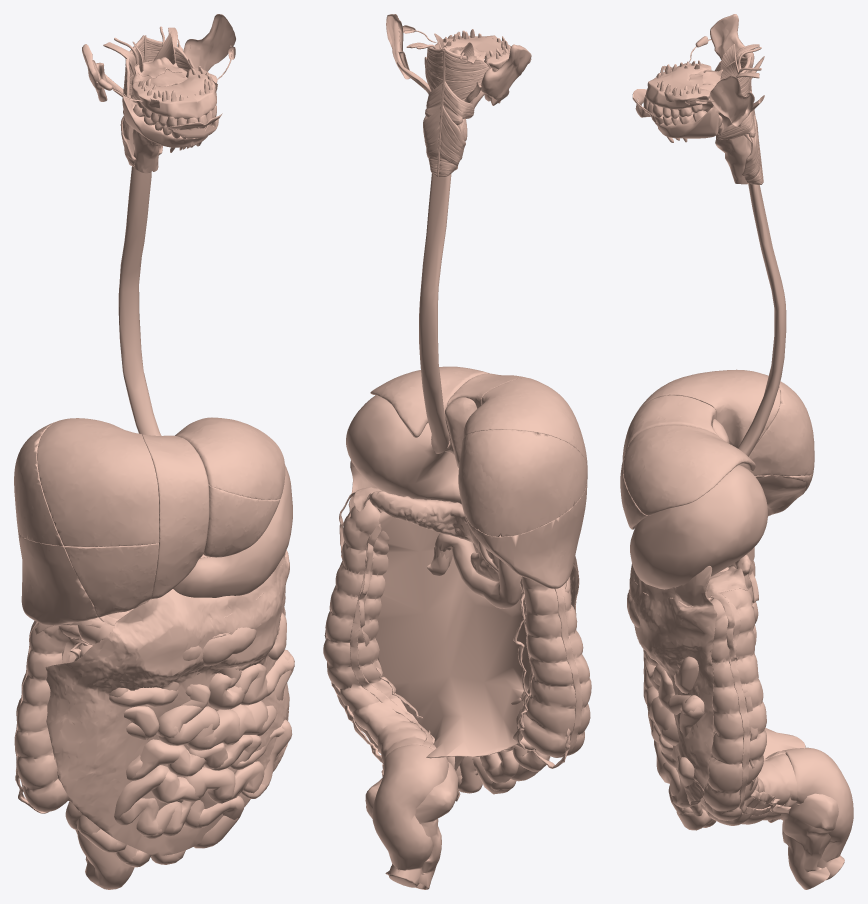
File: digerente.glb
The picture shows the model from 3 angles, left to right: view 1: azimuth 30°, elevation 25°; view 2: azimuth 150°, elevation 25°; view 3: azimuth 270°, elevation 25°; orthographic projection. The views are drawn at different scales.
Parts seen in each view (by area): view 1: ZA0152, FJ2824, FJ2820, FJ2566, FJ2818, FJ2563, FJ2564, FJ2821, FJ2409, FJ2819, FJ1858, FJ1252 (+29 smaller); view 2: FJ3398, FJ2567, FJ1858, FJ2566, FJ2564, FJ2571, FJ2563, FJ2824, FJ2409, FJ2818, FJ2823, FJ1895 (+20 smaller); view 3: FJ2567, FJ2564, ZA0152, FJ2818, FJ2824, ZA0164, FJ2571, FJ2563, FJ2823, FJ2820, FJ1252, FJ2570 (+18 smaller).
Part boxes in pixels (x1=…): ZA0152: x1=45, y1=550, x2=289, y2=855; FJ2824: x1=37, y1=418, x2=159, y2=546; FJ2820: x1=142, y1=434, x2=209, y2=599; FJ2566: x1=15, y1=622, x2=81, y2=812; FJ2818: x1=175, y1=417, x2=285, y2=499; FJ2563: x1=118, y1=166, x2=161, y2=435; FJ2564: x1=173, y1=465, x2=292, y2=597; FJ2821: x1=64, y1=543, x2=158, y2=617; FJ2409: x1=18, y1=530, x2=94, y2=625; FJ2819: x1=203, y1=485, x2=280, y2=557; FJ1858: x1=14, y1=420, x2=63, y2=545; FJ1252: x1=132, y1=68, x2=217, y2=119; FJ3398: x1=376, y1=510, x2=531, y2=758; FJ2567: x1=323, y1=499, x2=448, y2=767; FJ1858: x1=463, y1=429, x2=587, y2=536; FJ2566: x1=518, y1=576, x2=591, y2=757; FJ2564: x1=346, y1=395, x2=461, y2=504; FJ2571: x1=372, y1=744, x2=448, y2=887; FJ2563: x1=419, y1=173, x2=451, y2=453; FJ2824: x1=463, y1=377, x2=587, y2=467; FJ2409: x1=468, y1=483, x2=587, y2=588; FJ2818: x1=370, y1=366, x2=489, y2=437; FJ2823: x1=458, y1=431, x2=586, y2=533; FJ1895: x1=369, y1=491, x2=499, y2=582; FJ2567: x1=699, y1=588, x2=797, y2=825; FJ2564: x1=630, y1=465, x2=767, y2=589; ZA0152: x1=629, y1=564, x2=717, y2=810; FJ2818: x1=623, y1=425, x2=755, y2=515; FJ2824: x1=635, y1=369, x2=780, y2=448; ZA0164: x1=768, y1=793, x2=838, y2=889; FJ2571: x1=782, y1=747, x2=853, y2=880; FJ2563: x1=738, y1=183, x2=786, y2=456; FJ2823: x1=748, y1=385, x2=814, y2=476; FJ2820: x1=622, y1=395, x2=718, y2=460; FJ1252: x1=645, y1=63, x2=711, y2=109; FJ2570: x1=628, y1=589, x2=799, y2=815.
Bounding box in the file's own units: 0.2443 × 0.7609 × 0.1911.
